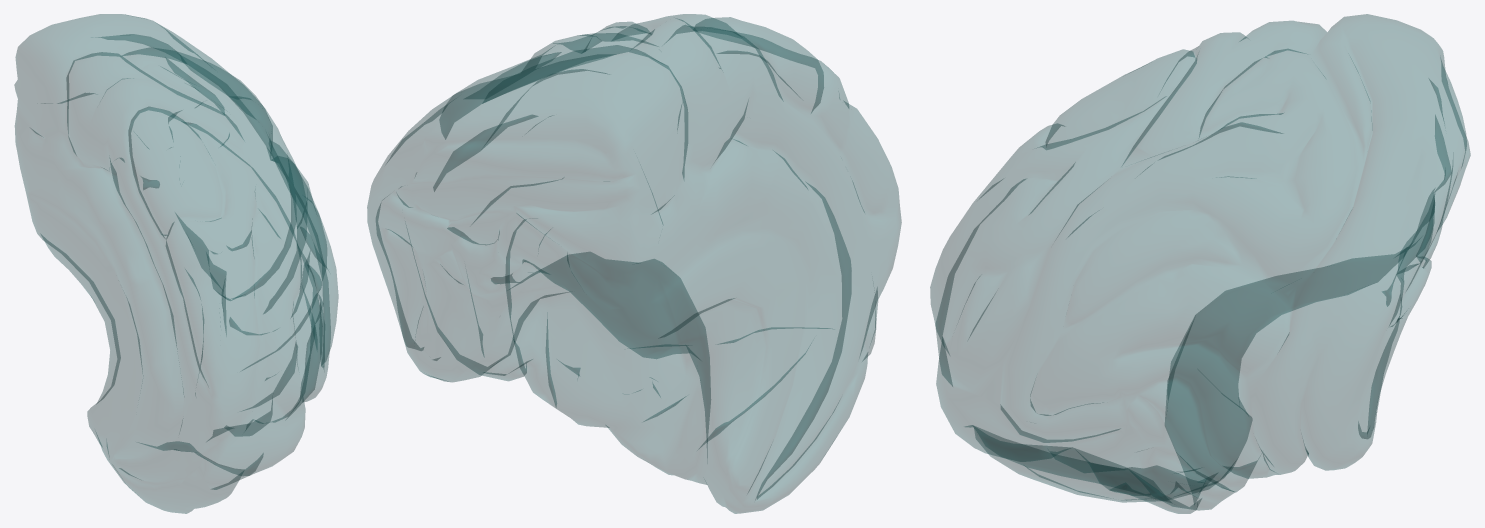
The model's file is Transperent Frontal_Lobe.gltf.
The picture shows the model from 3 angles, left to right: view 1: azimuth 30°, elevation 25°; view 2: azimuth 150°, elevation 25°; view 3: azimuth 270°, elevation 25°; orthographic projection. The views are drawn at different scales.
Parts seen in each view (by area): view 1: Frontal_Lobe_Left; view 2: Frontal_Lobe_Left; view 3: Frontal_Lobe_Left.
Boxes of the visible parts, left/top/right/bottom form: Frontal_Lobe_Left: left=14, top=14, right=338, bottom=513; Frontal_Lobe_Left: left=367, top=14, right=901, bottom=513; Frontal_Lobe_Left: left=930, top=14, right=1470, bottom=513.
Bounding box in the file's own units: 6.34 × 9.77 × 9.8.
